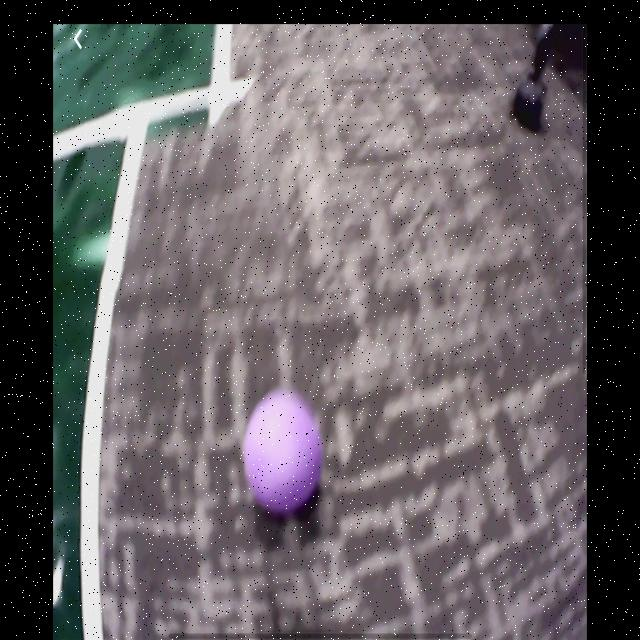ball: (248, 400, 323, 512)
